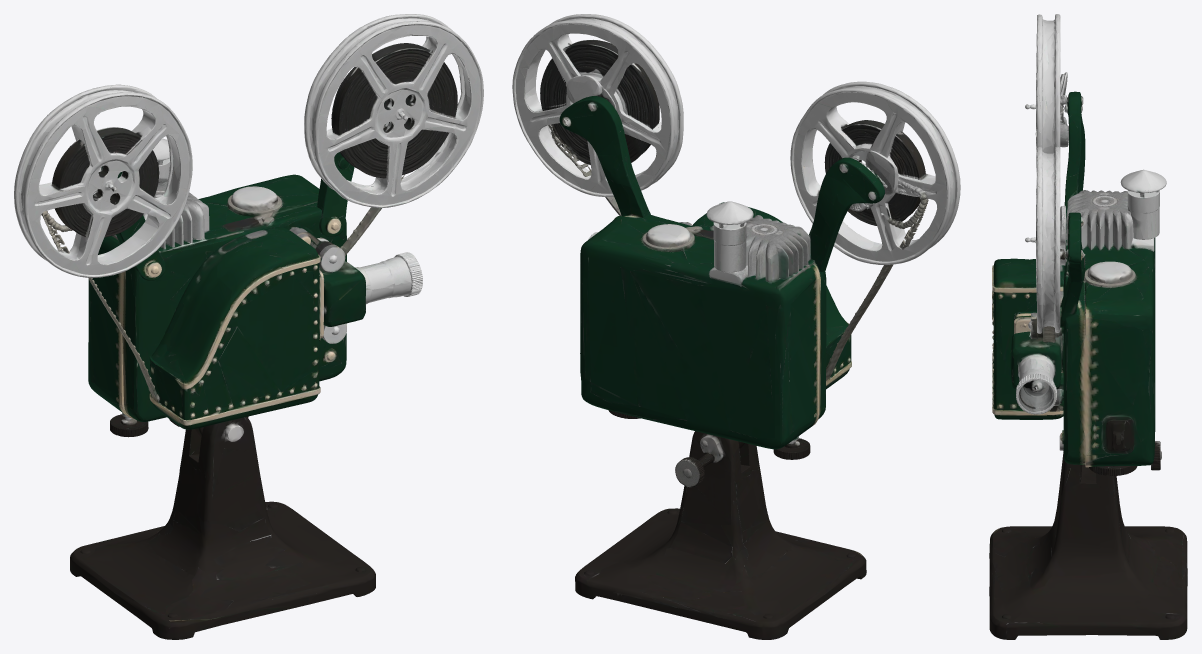
File: projector.glb
The picture shows the model from 3 angles, left to right: view 1: azimuth 30°, elevation 25°; view 2: azimuth 150°, elevation 25°; view 3: azimuth 270°, elevation 25°; orthographic projection. The views are drawn at different scales.
Visible parts, largest first — view 1: Mesh_0; view 2: Mesh_0; view 3: Mesh_0.
Part boxes in pixels (x1,y1,x2,y2): Mesh_0: [14, 14, 483, 639]; Mesh_0: [512, 14, 960, 639]; Mesh_0: [989, 14, 1187, 639].
Bounding box in the file's own units: 1.7 × 1.9 × 0.6781.
Materials: 1 (1 with a texture image).
